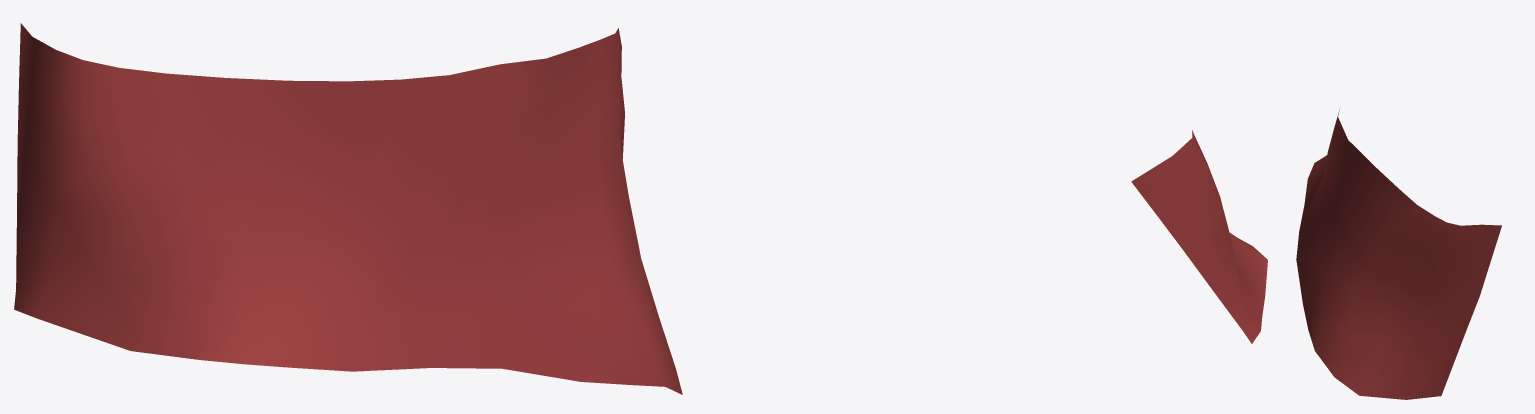
Rendered from flexor-retinaculum-of-wrist-r.glb.
3 views of the same model, side by side, from view 1: azimuth 30°, elevation 25°; view 2: azimuth 150°, elevation 25°; view 3: azimuth 270°, elevation 25° (orthographic). The views are drawn at different scales.
Visible parts, largest first — view 1: Flexor retinaculum of wrist.r; view 2: Flexor retinaculum of wrist.r; view 3: Flexor retinaculum of wrist.r.
Part boxes in pixels (x1=…): Flexor retinaculum of wrist.r: x1=14, y1=23, x2=682, y2=394; Flexor retinaculum of wrist.r: x1=1131, y1=130, x2=1267, y2=343; Flexor retinaculum of wrist.r: x1=1296, y1=109, x2=1501, y2=399.
Size of the model in its own units: 0.0595 by 0.0409 by 0.0337.
